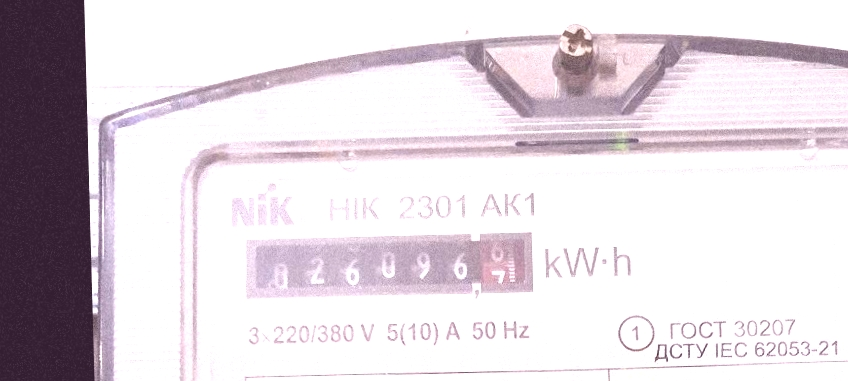0: (377, 247, 398, 283), (269, 258, 290, 290)
2: (305, 253, 327, 288)
6: (342, 254, 362, 289), (450, 248, 469, 282), (486, 237, 506, 265)
7: (488, 266, 507, 288)
9: (413, 249, 433, 282)
screen: (234, 222, 541, 311)
